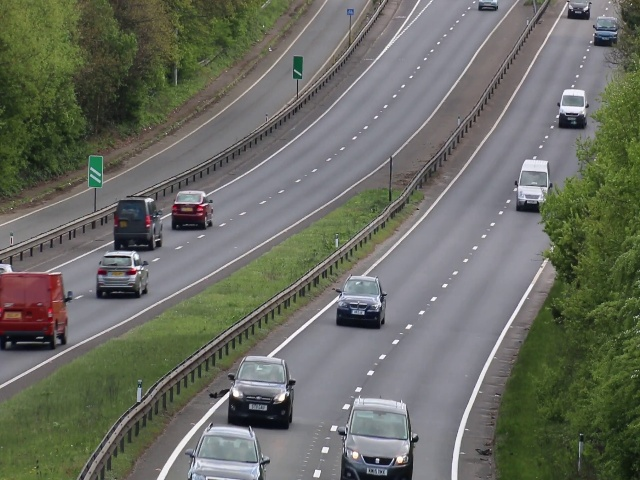car: (342, 399, 415, 479), (1, 271, 70, 350), (224, 354, 296, 426), (188, 424, 263, 480), (335, 274, 386, 330), (112, 198, 164, 248), (97, 251, 148, 299), (170, 190, 216, 232), (517, 158, 546, 208), (558, 85, 589, 130), (595, 16, 615, 48)
